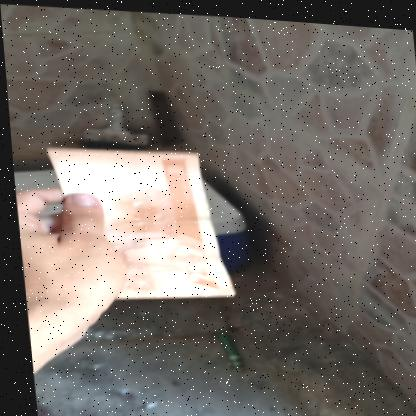twenty-back-vef: (41, 137, 231, 305)
